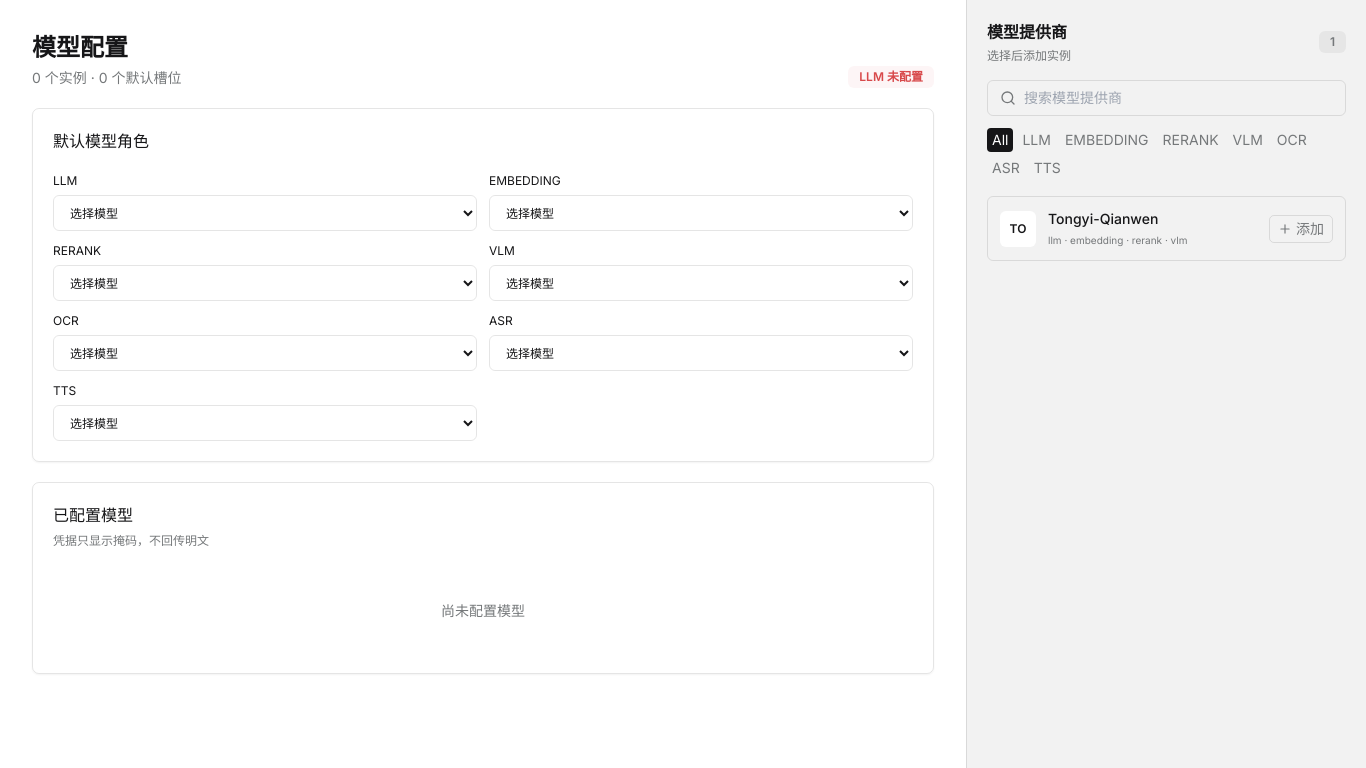
Scenario: RAGFlow-style operations pages › suggests VLM while adding a model whose name identifies a visual model
The image size is (1366, 768).
Step 1. Click the button with aria-label "添加 Tongyi-Qianwen" → click(1301, 228), box top-left (1269, 214), bottom-right (1333, 242)
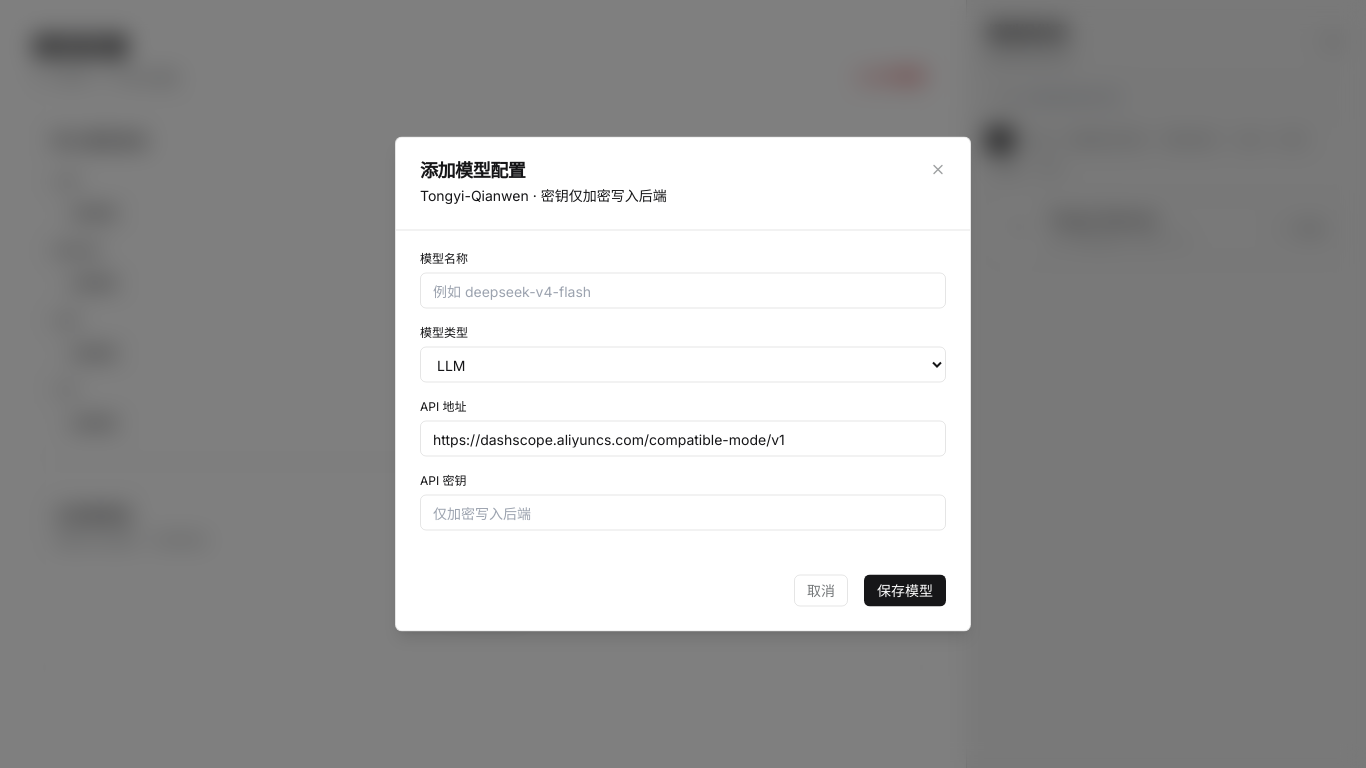
Step 2. Type "qwen3-vl-flash" into the field labelled "模型名称" → (683, 290), box top-left (420, 272), bottom-right (946, 308)
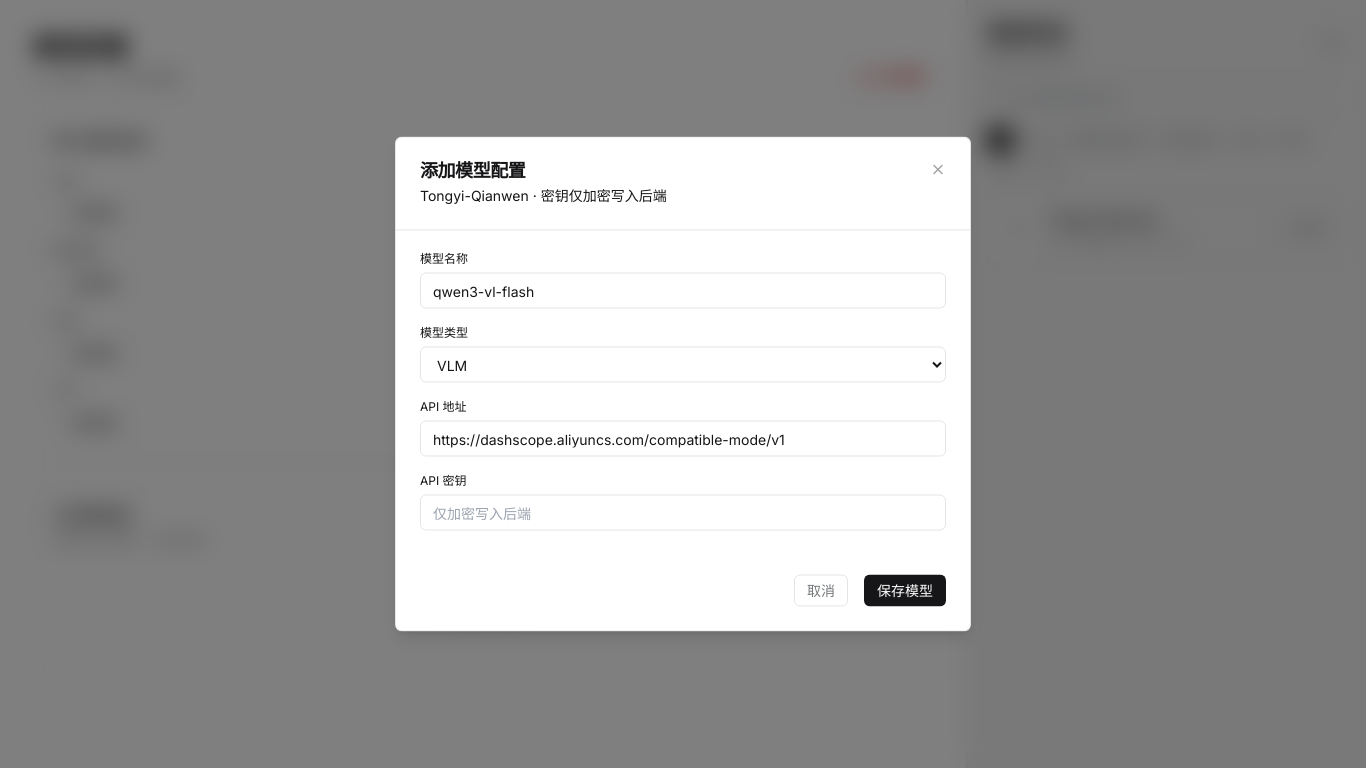
Expected: the dropdown labelled "模型类型" shows "VLM", top-left (420, 346), bottom-right (946, 382)
Step 3. Click the button "保存模型" → click(905, 590), box top-left (864, 574), bottom-right (946, 606)
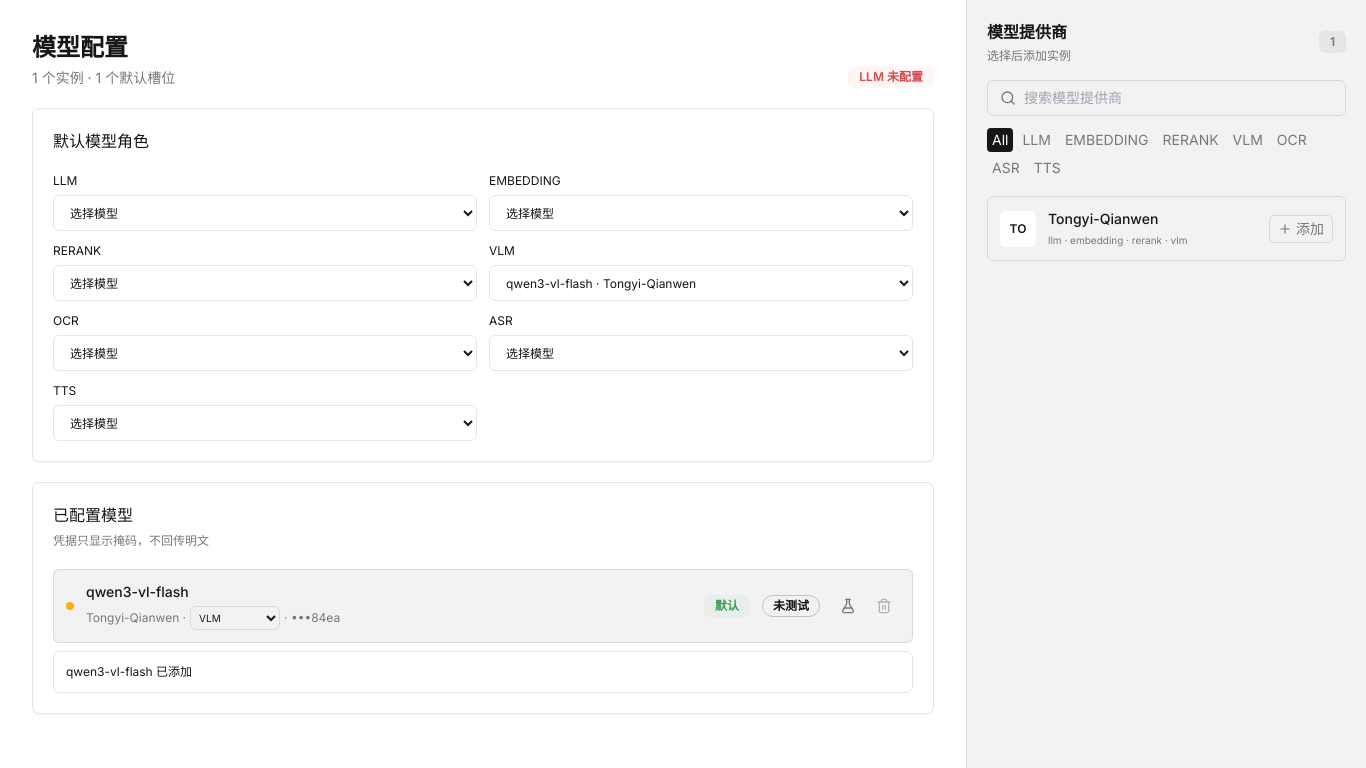
Expected: the text "qwen3-vl-flash 已添加" is shown, top-left (53, 651), bottom-right (913, 693)
